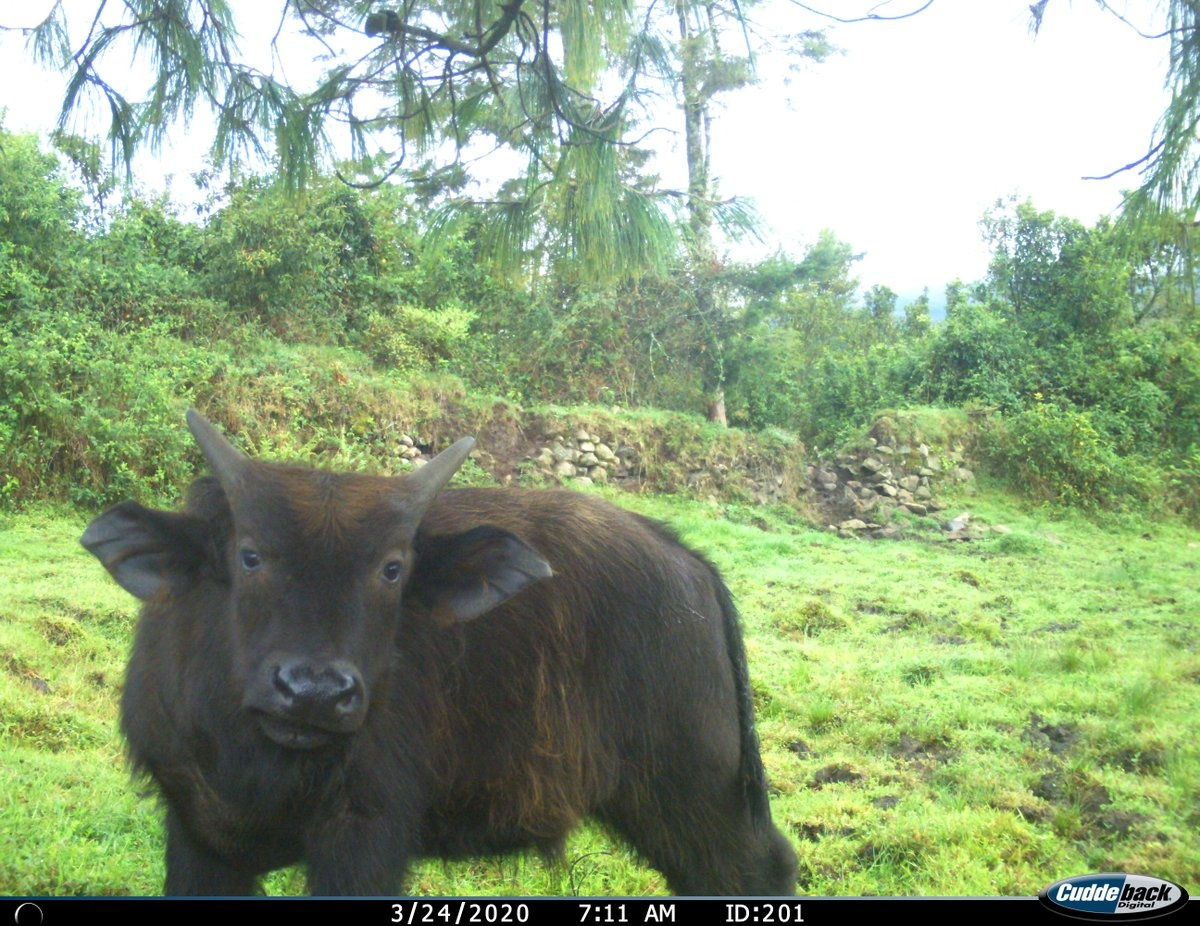buffalo: (72, 398, 813, 896)
